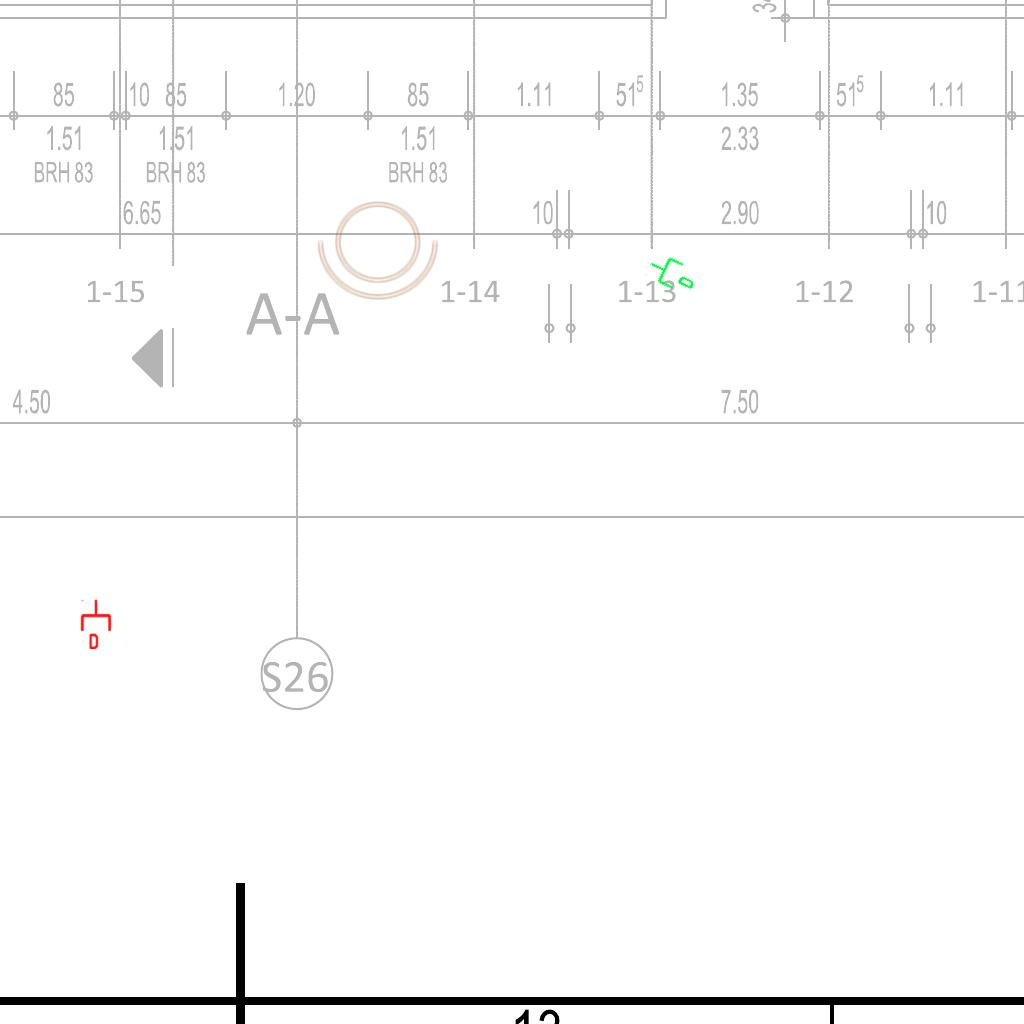Datenanschluss_einfach: (643, 247, 703, 299), (79, 599, 113, 649)
Scheinwerfer_fuer_Alarmbeleuchtung: (315, 191, 447, 303)
